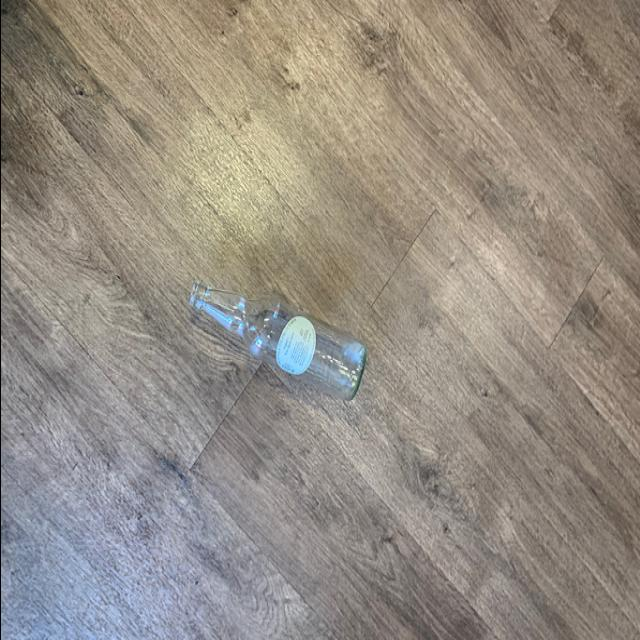Glass Bottle: (180, 275, 368, 409)
